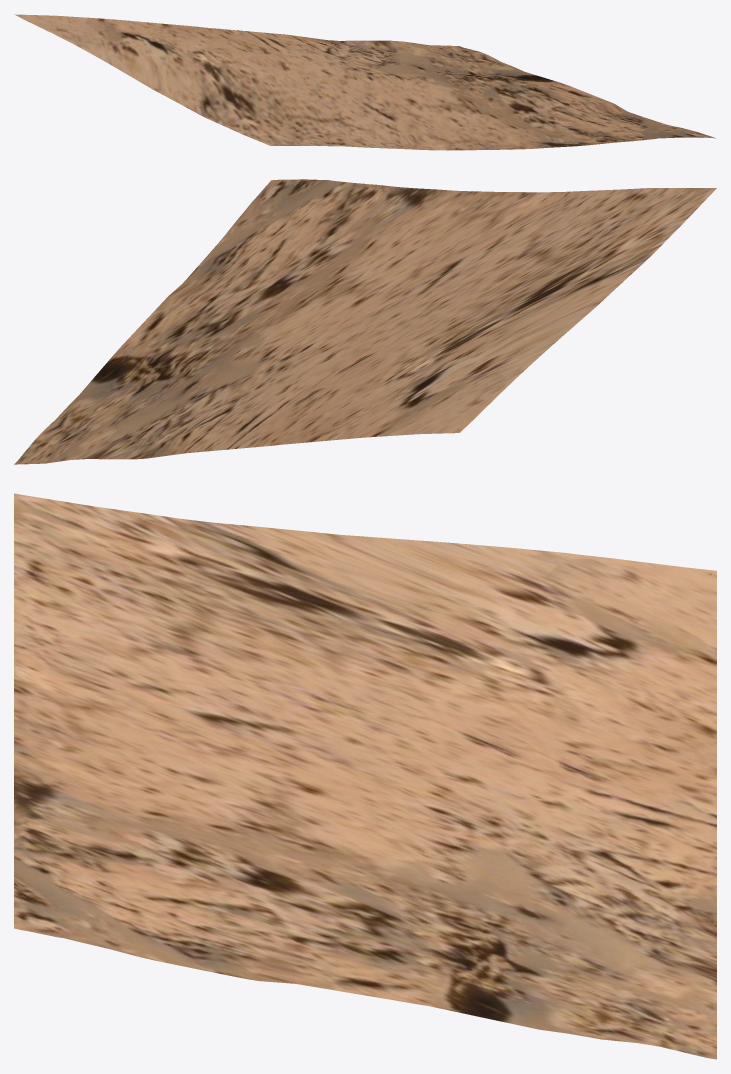
3 views of the same model, one above another, from view 1: azimuth 30°, elevation 25°; view 2: azimuth 150°, elevation 25°; view 3: azimuth 270°, elevation 25° (orthographic). The views are drawn at different scales.
Bounding box in the file's own units: 4.18 × 1.76 × 4.18.
2 materials, 2 textured.
